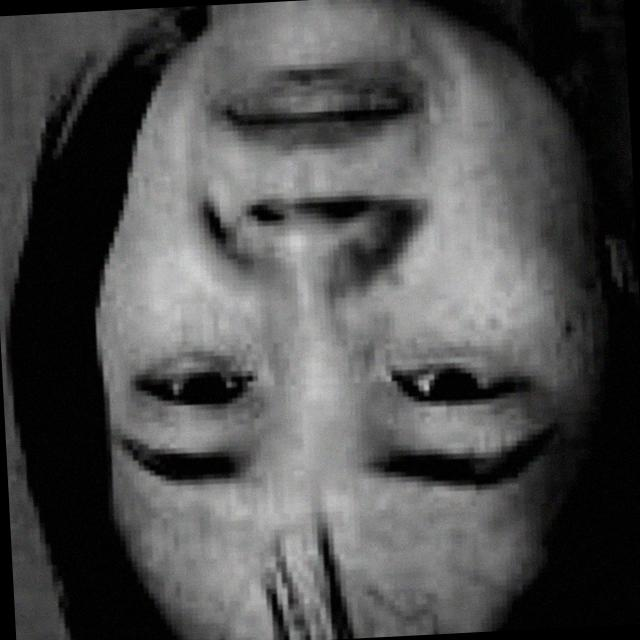disgust: (87, 0, 586, 607)
